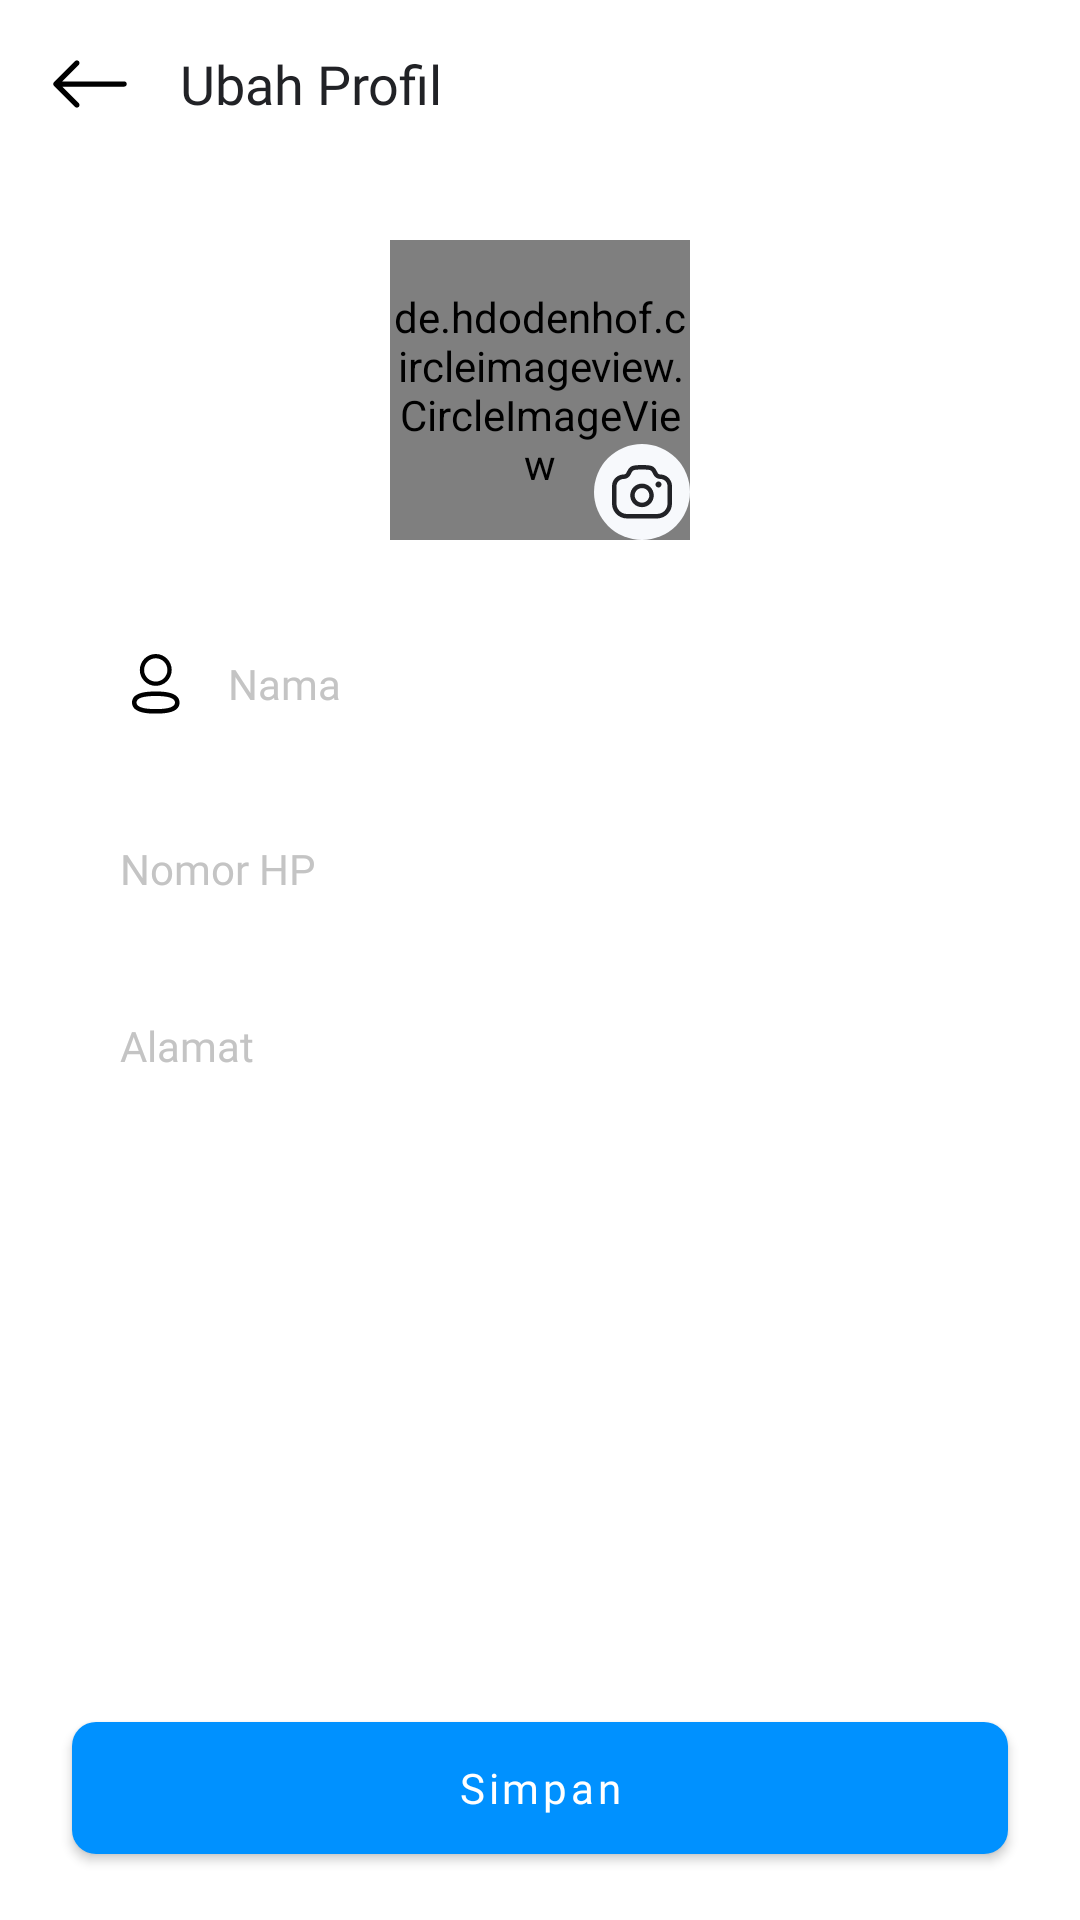

Where to tap for icons on this 1080px x 1920px app screen, as (x,y):
arrow left: (90,84)
camera: (642,492)
